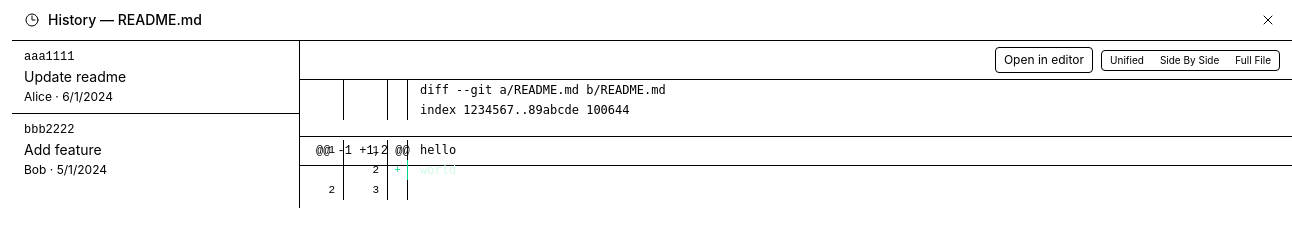
Scenario: FileHistoryOverlay › shows full file content in full view mode
The image size is (1292, 225).
Expected: the text "Update readme" is shown, top-left (24, 67), bottom-right (126, 87)
Click the button "Full file": coordinates (1253, 60) top-left (1227, 50), bottom-right (1279, 70)
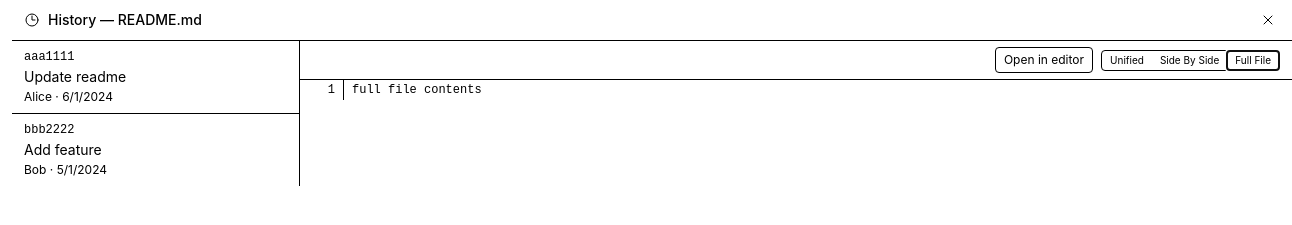
Expected: the text "full file contents" is shown, top-left (352, 83), bottom-right (482, 97)
